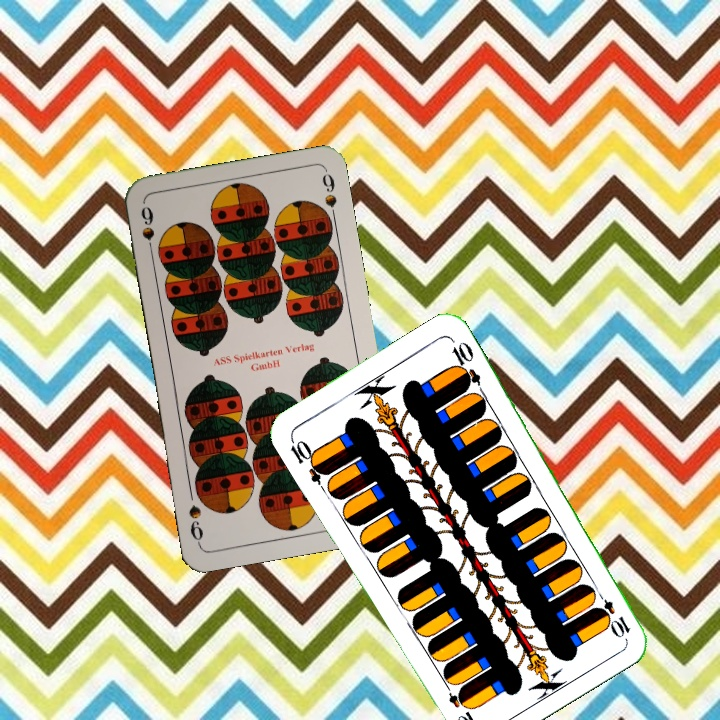E10: (286, 433, 331, 486), (590, 586, 633, 640)
S9: (136, 203, 157, 260)
